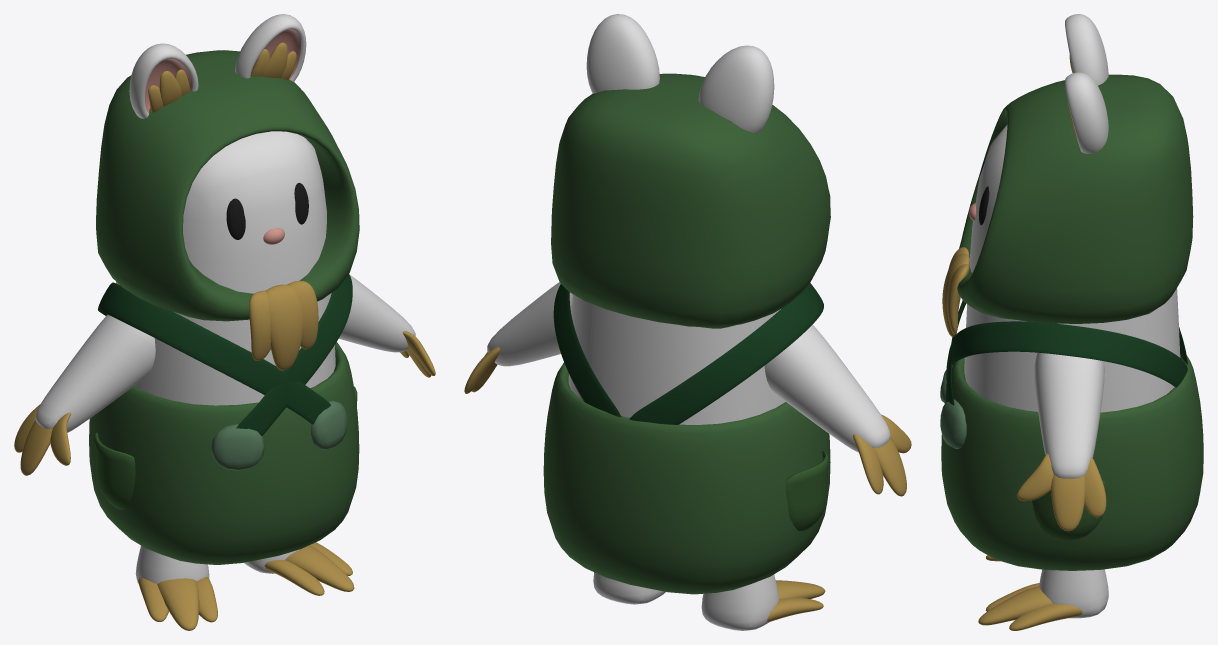
Rendered from character.fbx.
The picture shows the model from 3 angles, left to right: view 1: azimuth 30°, elevation 25°; view 2: azimuth 150°, elevation 25°; view 3: azimuth 270°, elevation 25°; orthographic projection. The views are drawn at different scales.
Visible parts, largest first — view 1: Sphere.005, Cube.031, Cube.029, Cube.028, Cube.062, Cube.065; view 2: Sphere.005, Cube.031, Cube.029, Cube.028, Cube.062, Cube.065; view 3: Sphere.005, Cube.031, Cube.062, Cube.065.
Part boxes in pixels (x1,y1,x2,y2): Sphere.005: [89, 131, 359, 564]; Cube.031: [96, 14, 359, 370]; Cube.029: [14, 314, 155, 475]; Cube.028: [135, 545, 217, 630]; Cube.062: [339, 274, 435, 377]; Cube.065: [244, 542, 354, 595]; Sphere.005: [543, 283, 830, 594]; Cube.031: [551, 14, 830, 328]; Cube.029: [764, 324, 911, 496]; Cube.028: [701, 574, 825, 630]; Cube.062: [464, 282, 572, 393]; Cube.065: [593, 572, 665, 604]; Sphere.005: [940, 125, 1203, 570]; Cube.031: [942, 14, 1193, 336]; Cube.062: [1016, 352, 1106, 531]; Cube.065: [978, 569, 1108, 630].
Size of the model in its own units: 65.58 by 84.22 by 37.23.
